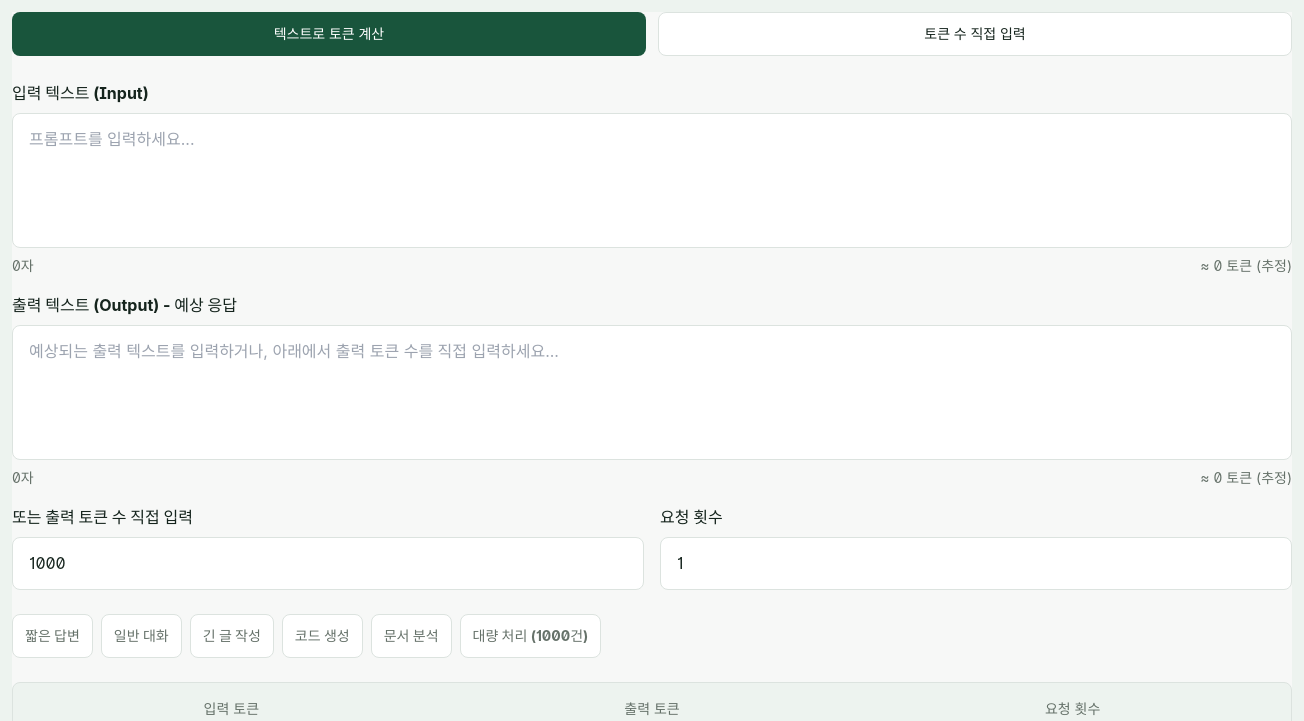
Test: LlmCostCalculator › estimates empty, non-Latin, and updated text token inputs for model costs
Expected: the text "≈ 0 토큰 (추정)" is shown 2 times, [1200, 256, 1292, 276]; [1200, 468, 1292, 488]
Type "안녕하세요" into the text box labelled "입력 텍스트 (Input)" at coordinates (652, 181), box [12, 113, 1292, 248]
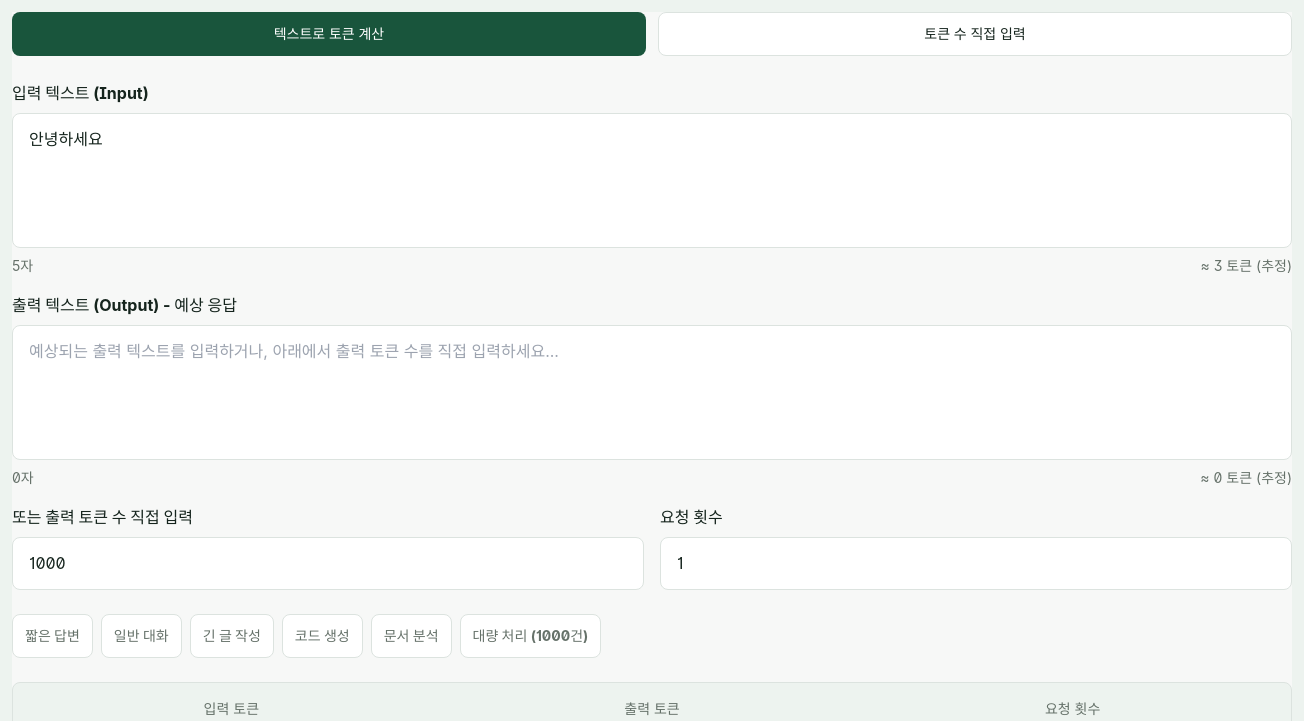
Type "hello" into the text box labelled "출력 텍스트 (Output) - 예상 응답" at coordinates (652, 392), box [12, 325, 1292, 460]
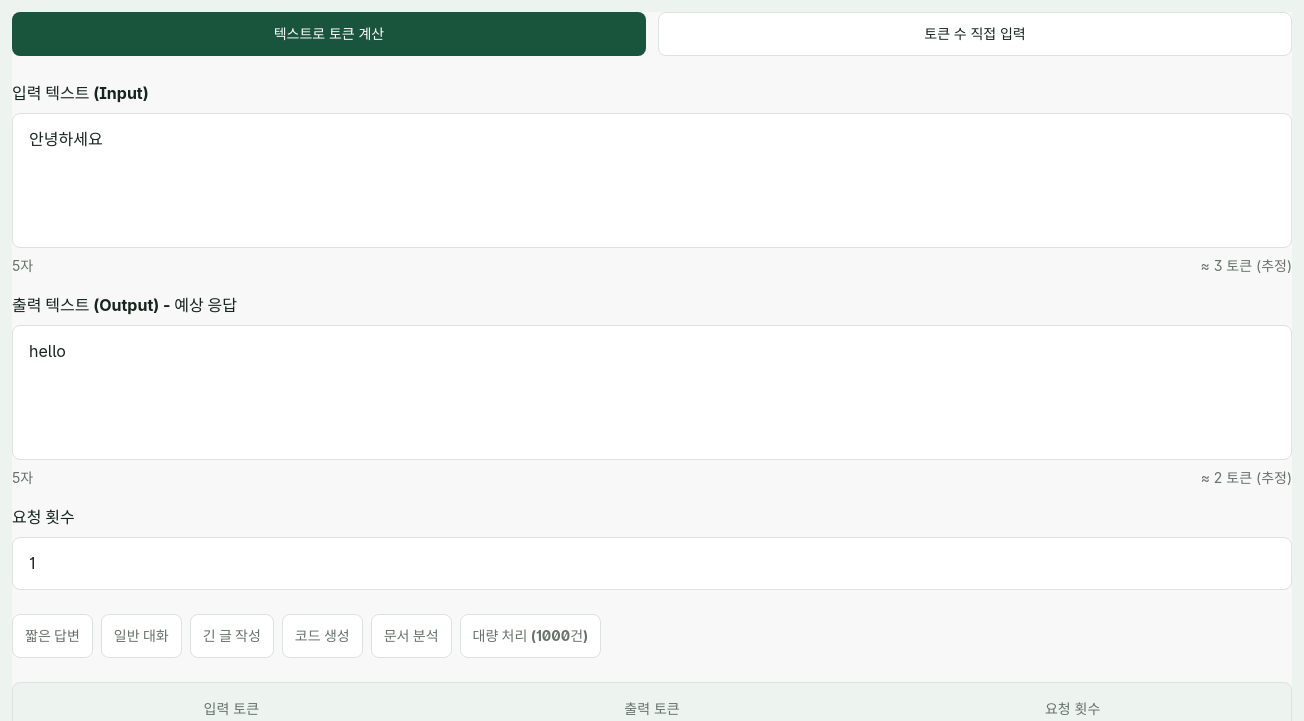
Expected: the text "≈ 3 토큰 (추정)" is shown, [1200, 256, 1292, 276]
Expected: the text "≈ 2 토큰 (추정)" is shown, [1201, 468, 1292, 488]
Replace the text in the text box labelled "입력 텍스트 (Input)" with "안녕" at coordinates (652, 181), box [12, 113, 1292, 248]
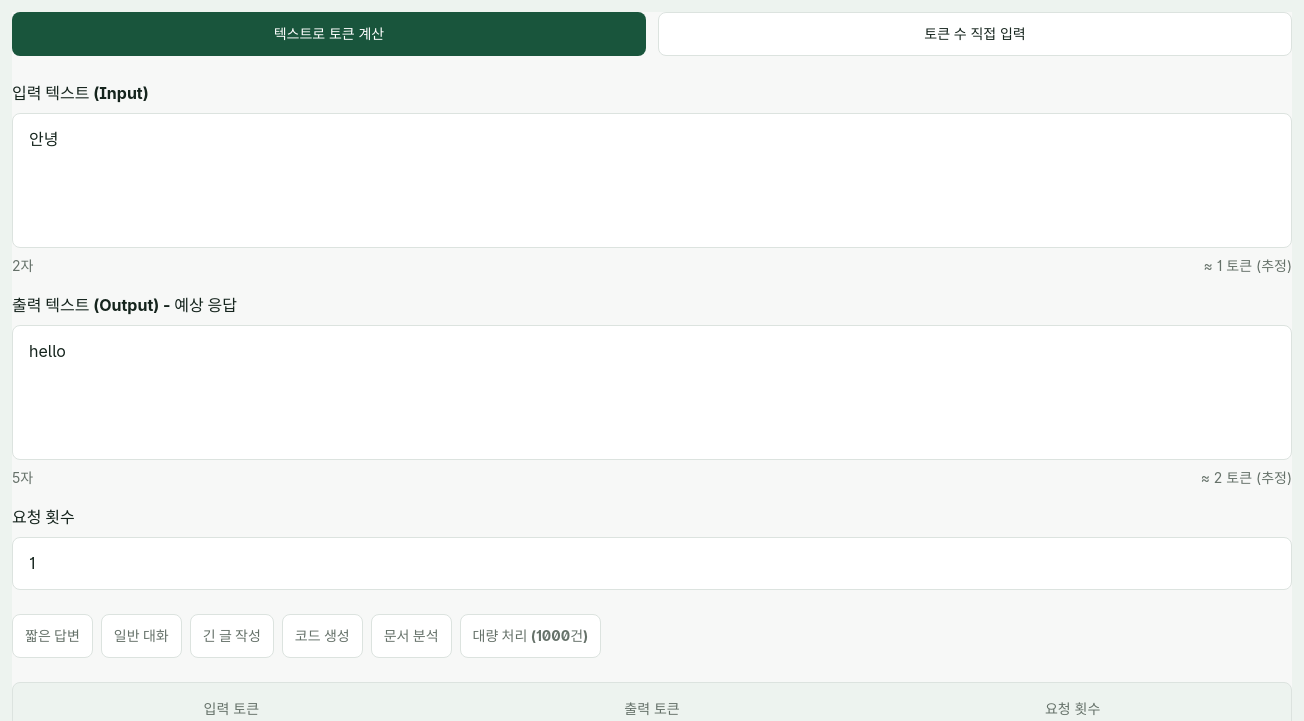
Expected: the text "≈ 1 토큰 (추정)" is shown, [1204, 256, 1292, 276]
